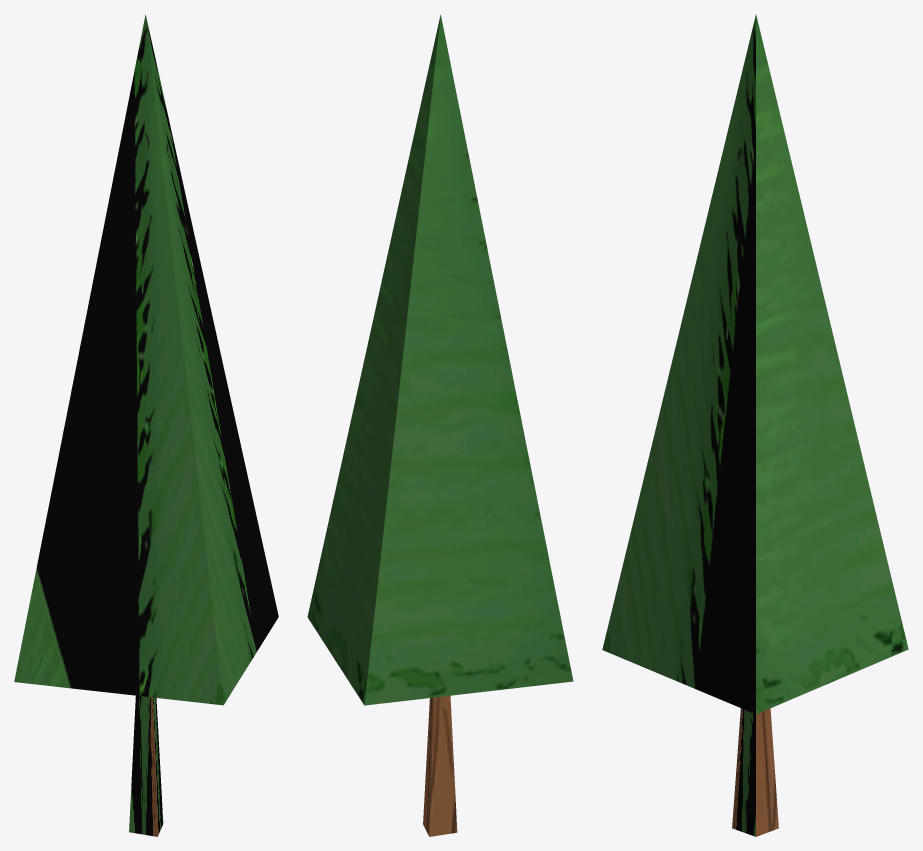
Rendered from Tree.glb.
3 views of the same model, side by side, from view 1: azimuth 30°, elevation 25°; view 2: azimuth 150°, elevation 25°; view 3: azimuth 270°, elevation 25° (orthographic).
Parts seen in each view (by area): view 1: Tree; view 2: Tree; view 3: Tree.
Boxes of the visible parts, <box> form: Tree: <box>14,15,278,836</box>; Tree: <box>307,15,573,836</box>; Tree: <box>602,14,908,836</box>.
Bounding box in the file's own units: 115 × 337 × 115.
Materials: 1 (1 with a texture image).
